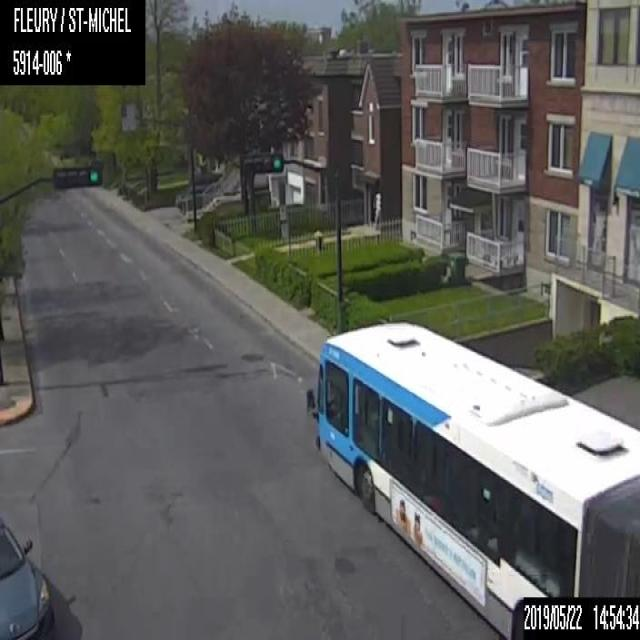bus: (305, 317, 639, 639)
vehicle: (0, 514, 57, 638)
